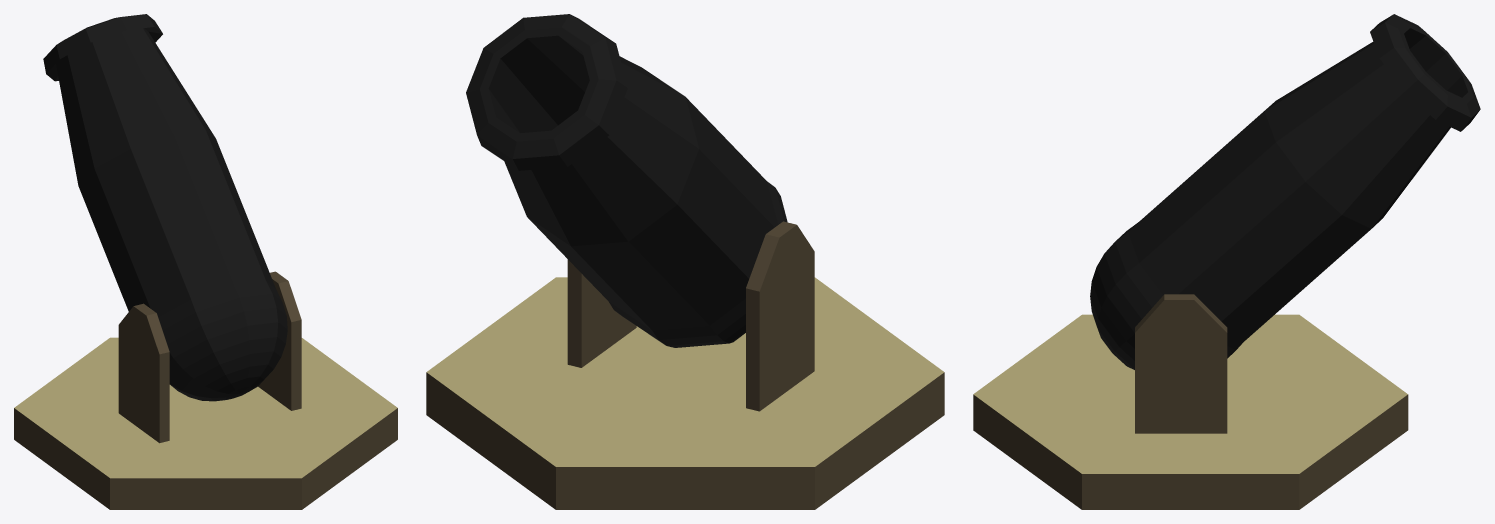
File: Raft_canon.fbx
The picture shows the model from 3 angles, left to right: view 1: azimuth 30°, elevation 25°; view 2: azimuth 150°, elevation 25°; view 3: azimuth 270°, elevation 25°; orthographic projection. The views are drawn at different scales.
Parts seen in each view (by area): view 1: Canon; view 2: Canon; view 3: Canon.
Part boxes in pixels (<box>): Canon: <box>14,14,397,509</box>; Canon: <box>426,14,944,509</box>; Canon: <box>973,14,1480,509</box>.
Size of the model in its own units: 285 by 341 by 385.
